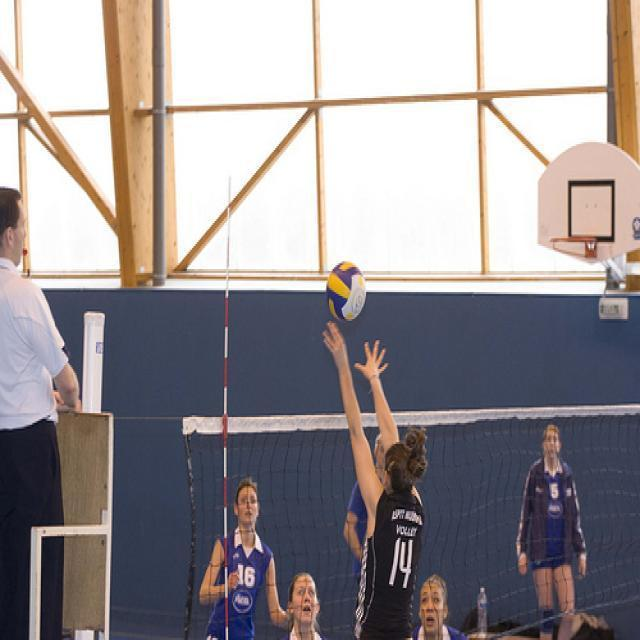volleyball: (326, 261, 366, 322)
